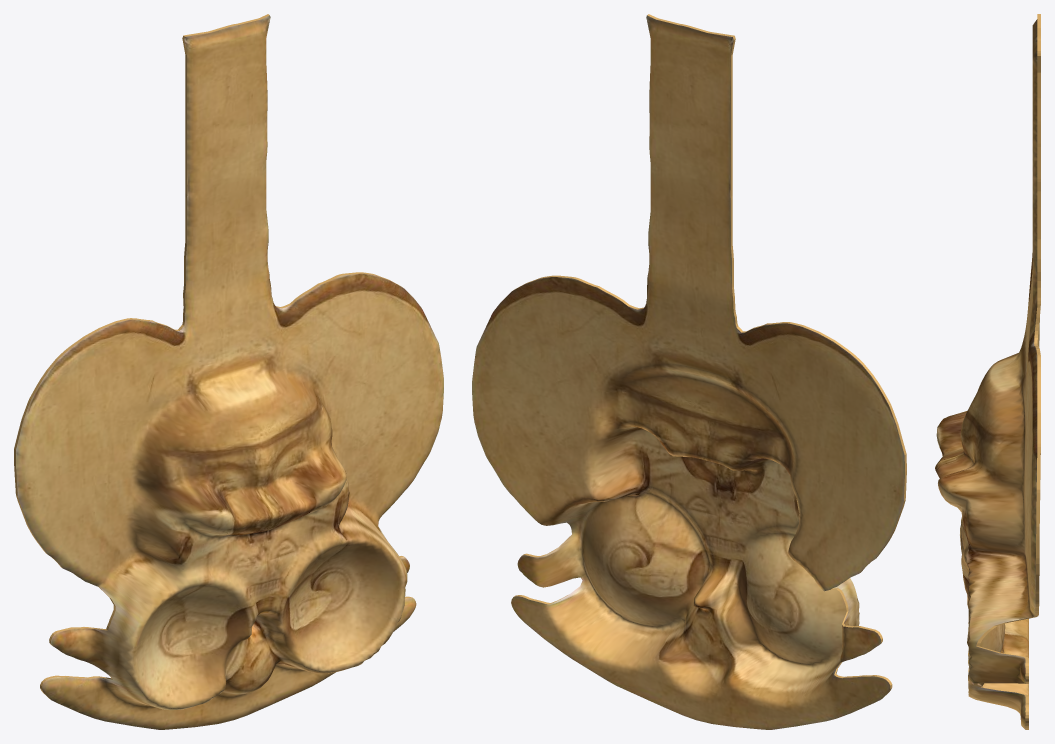
File: adorno_de_brazo.glb
The picture shows the model from 3 angles, left to right: view 1: azimuth 30°, elevation 25°; view 2: azimuth 150°, elevation 25°; view 3: azimuth 270°, elevation 25°; orthographic projection. The views are drawn at different scales.
Parts seen in each view (by area): view 1: adorno_de_brazo; view 2: adorno_de_brazo; view 3: adorno_de_brazo.
Boxes of the visible parts, x1,y1,x2,y2 form: adorno_de_brazo: (14,14,443,729); adorno_de_brazo: (472,14,906,729); adorno_de_brazo: (935,14,1040,729).
Size of the model in its own units: 4.04 by 6.23 by 0.8949.
Materials: 1 (1 with a texture image).
